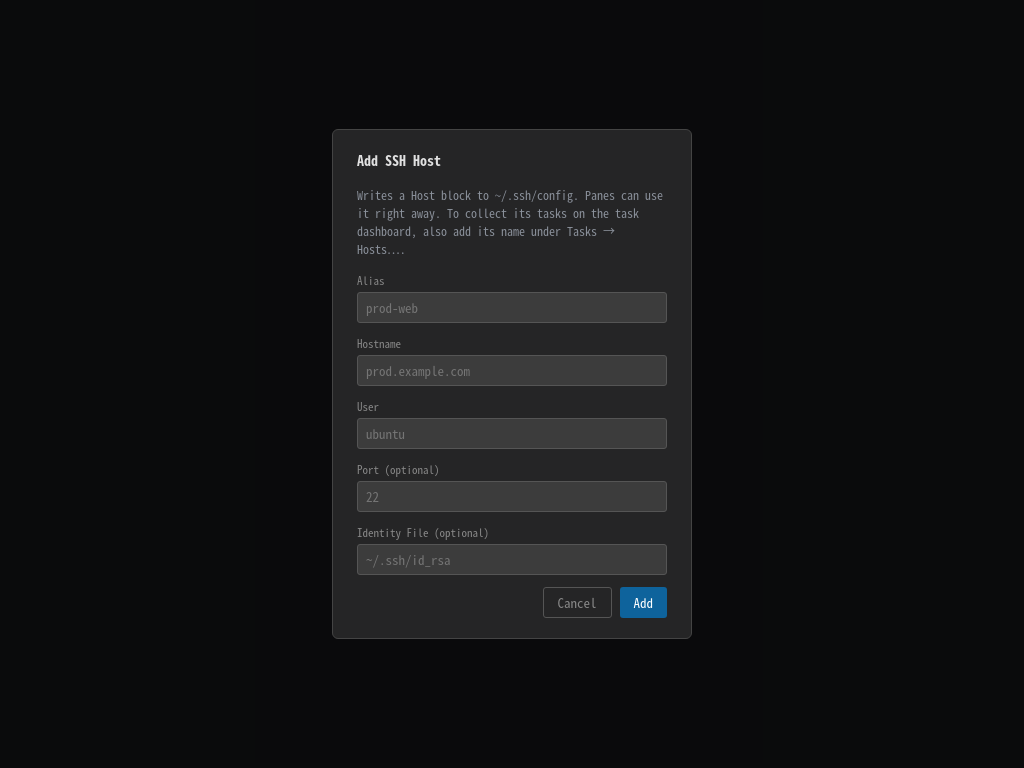
it: AddSSHHostDialog › validates hostname is required
This screenshot has width=1024, height=768.
Type "myhost" into the field named "Name". click: {"x": 512, "y": 308}
box: [357,292,667,323]
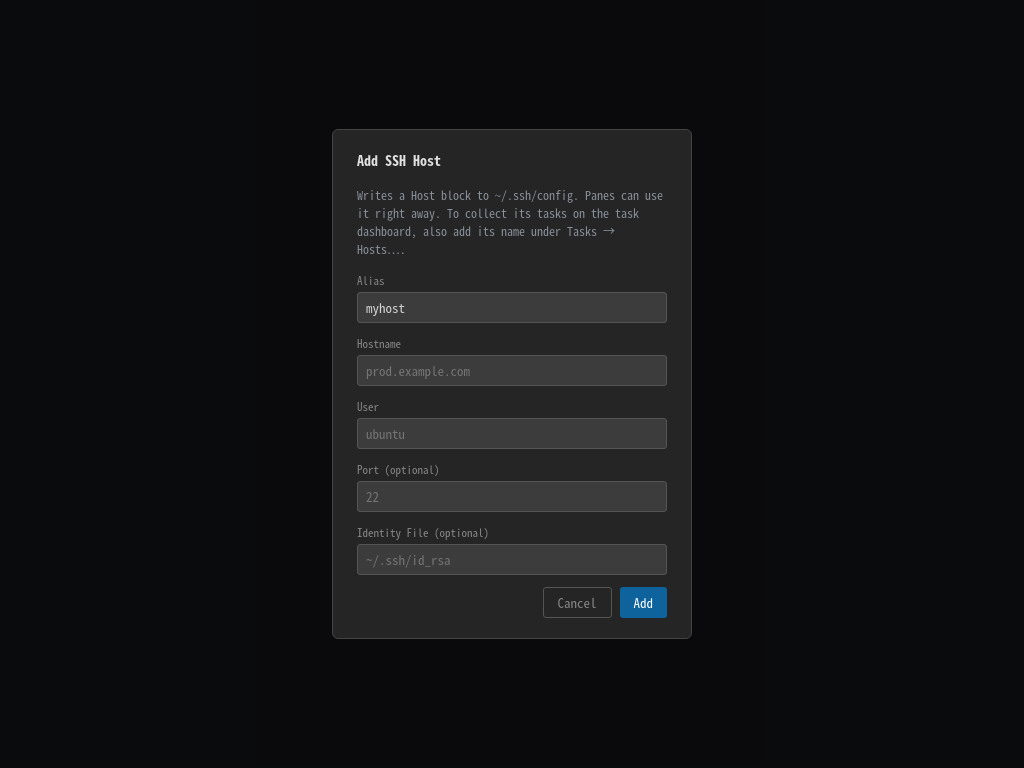
Click the button "Add". click: {"x": 643, "y": 602}
box: [620,587,667,618]
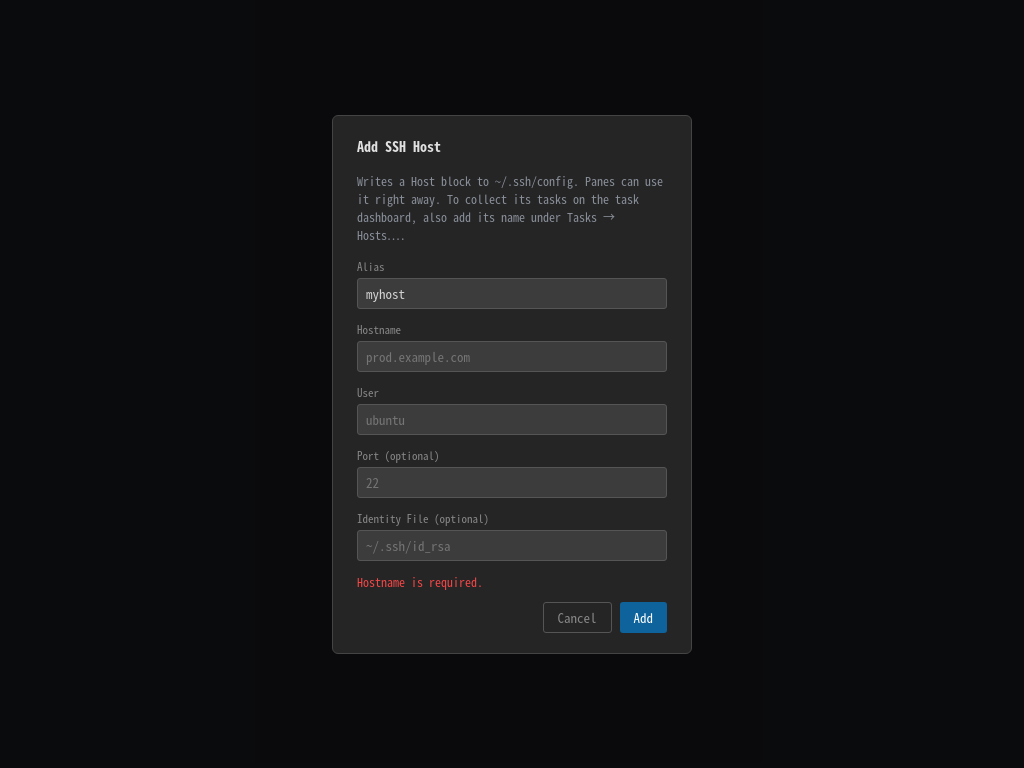
Check: the text "Hostname is required." is shown, box [357,572,483,590]
